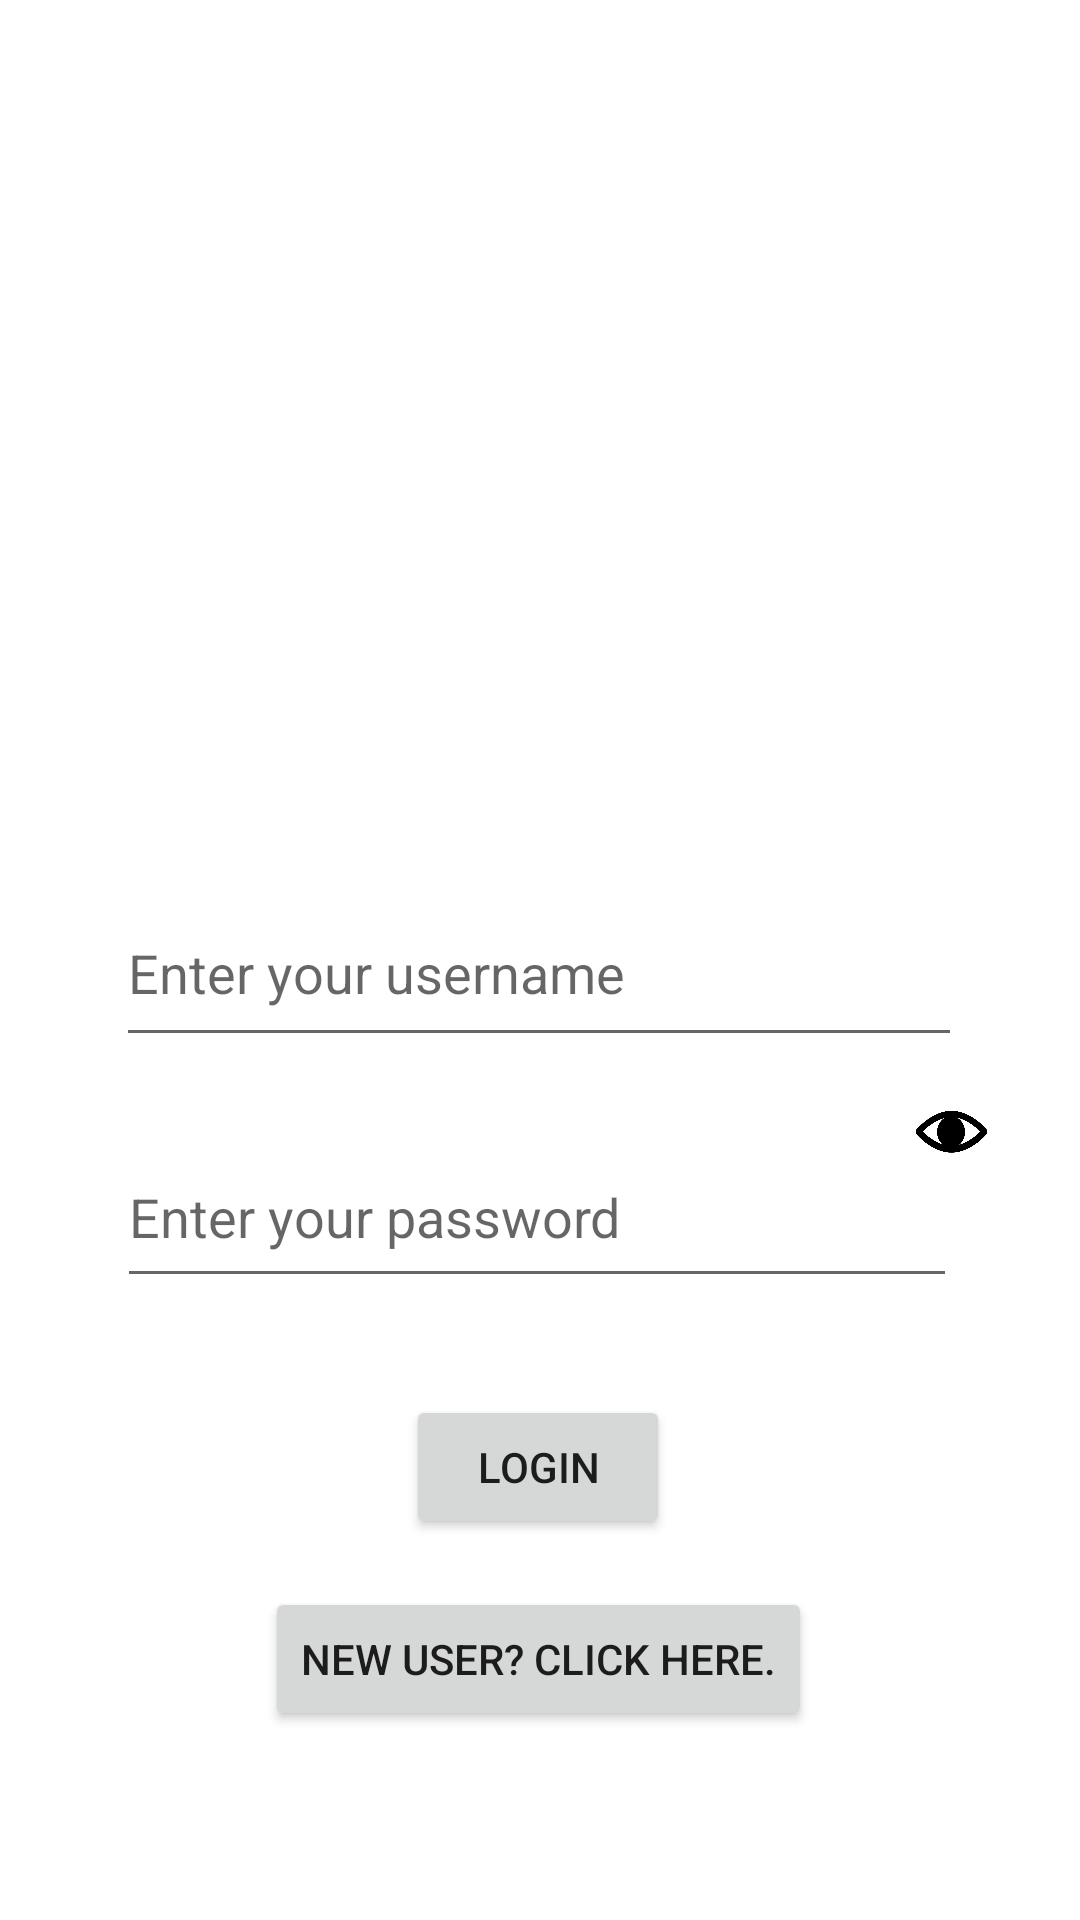

Icons on this 1080 x 1920 Android screen, each with its box as bbox(x1, y1, x2, y2):
Password Toggler: bbox(916, 1111, 987, 1153)
